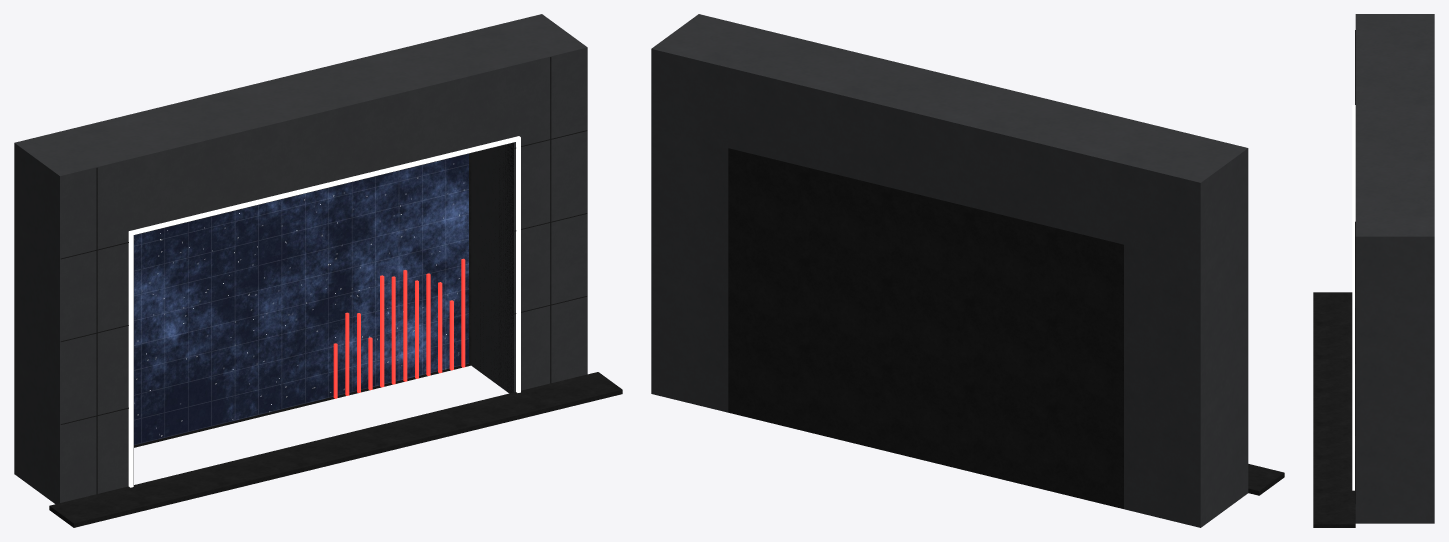
File: gate60.glb
3 views of the same model, side by side, from view 1: azimuth 30°, elevation 25°; view 2: azimuth 150°, elevation 25°; view 3: azimuth 270°, elevation 25° (orthographic). The views are drawn at different scales.
Parts seen in each view (by area): view 1: Gate60_Mesh; view 2: Gate60_Mesh; view 3: Gate60_Mesh.
Part boxes in pixels (x1,y1,x2,y2): Gate60_Mesh: [14, 14, 622, 527]; Gate60_Mesh: [651, 14, 1284, 527]; Gate60_Mesh: [1313, 14, 1434, 527].
Size of the model in its own units: 10.4 by 6 by 2.3.
5 materials, 3 textured.
